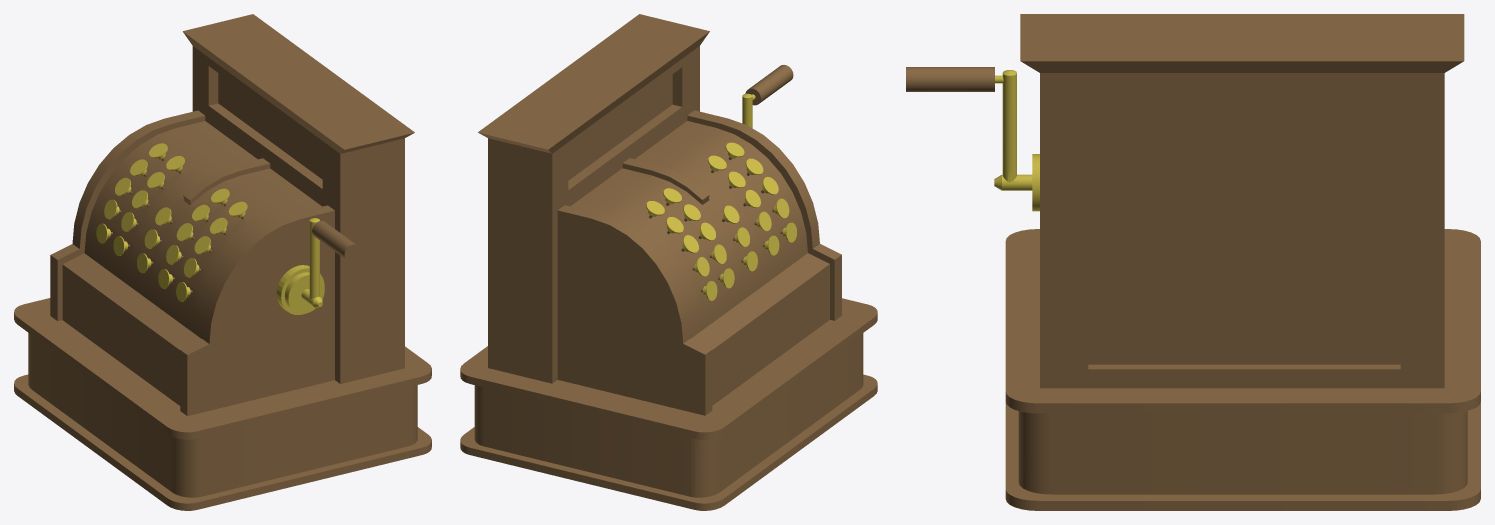
The model's file is KassaTest.fbx.
The picture shows the model from 3 angles, left to right: view 1: azimuth 30°, elevation 25°; view 2: azimuth 150°, elevation 25°; view 3: azimuth 270°, elevation 25°; orthographic projection. The views are drawn at different scales.
Visible parts, largest first — view 1: Cube.006; view 2: Cube.006; view 3: Cube.006.
Part boxes in pixels (x1=…): Cube.006: x1=14, y1=14, x2=431, y2=510; Cube.006: x1=460, y1=14, x2=877, y2=510; Cube.006: x1=906, y1=14, x2=1480, y2=510.
Bounding box in the file's own units: 0.7592 × 0.8867 × 1.06.
